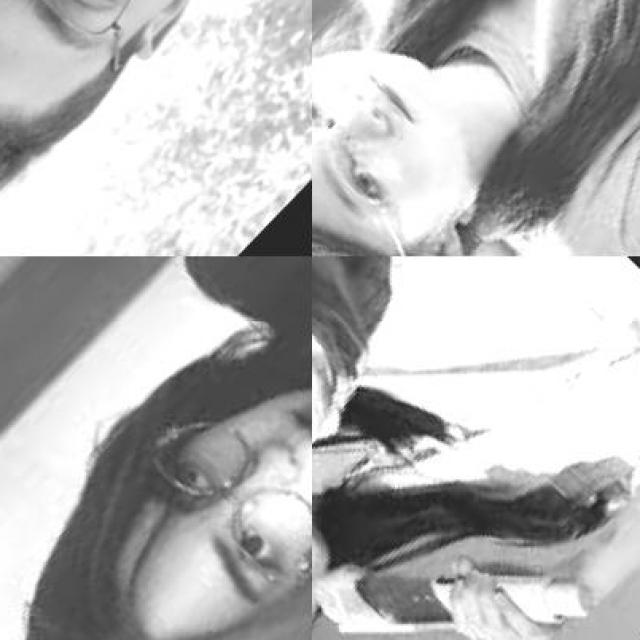Glasses: (118, 382, 310, 640), (312, 32, 489, 255), (0, 0, 193, 118)
